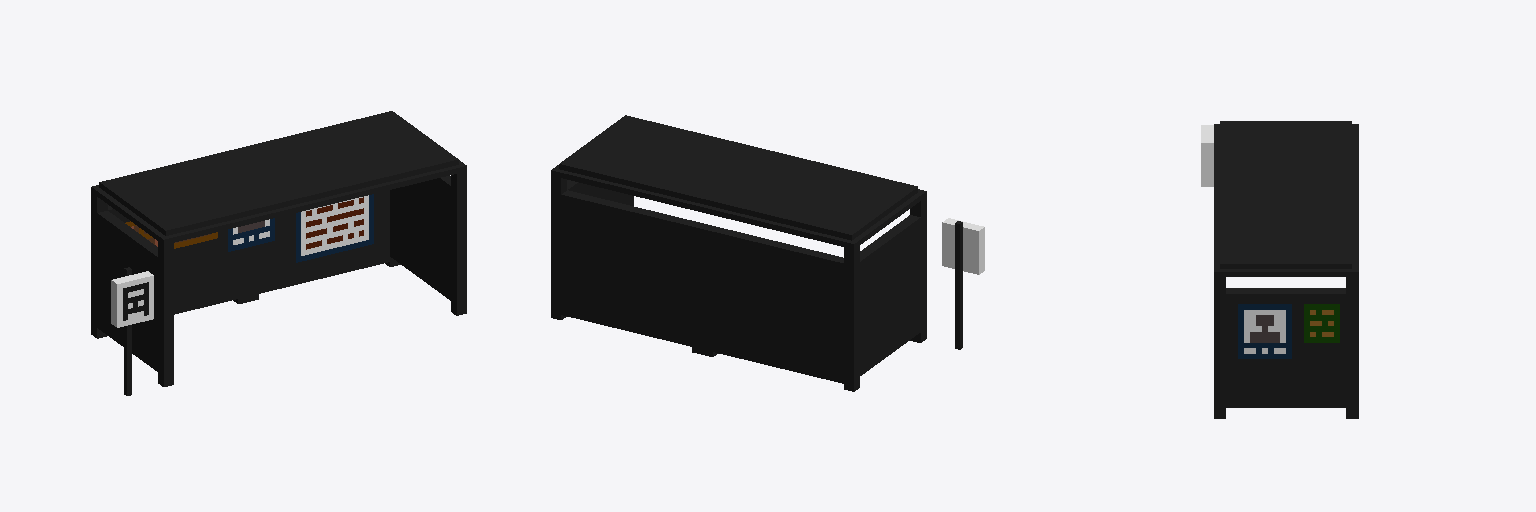
3 views of the same model, side by side, from view 1: azimuth 30°, elevation 25°; view 2: azimuth 150°, elevation 25°; view 3: azimuth 270°, elevation 25° (orthographic).
Visible parts, largest first — view 1: object 1; view 2: object 1; view 3: object 1.
Part boxes in pixels (bbox=[...]): object 1: bbox=[91, 111, 466, 395]; object 1: bbox=[551, 115, 984, 391]; object 1: bbox=[1201, 121, 1358, 418].
Size of the model in its own units: 6.8 by 2.8 by 2.6.
Materials: 1 (1 with a texture image).